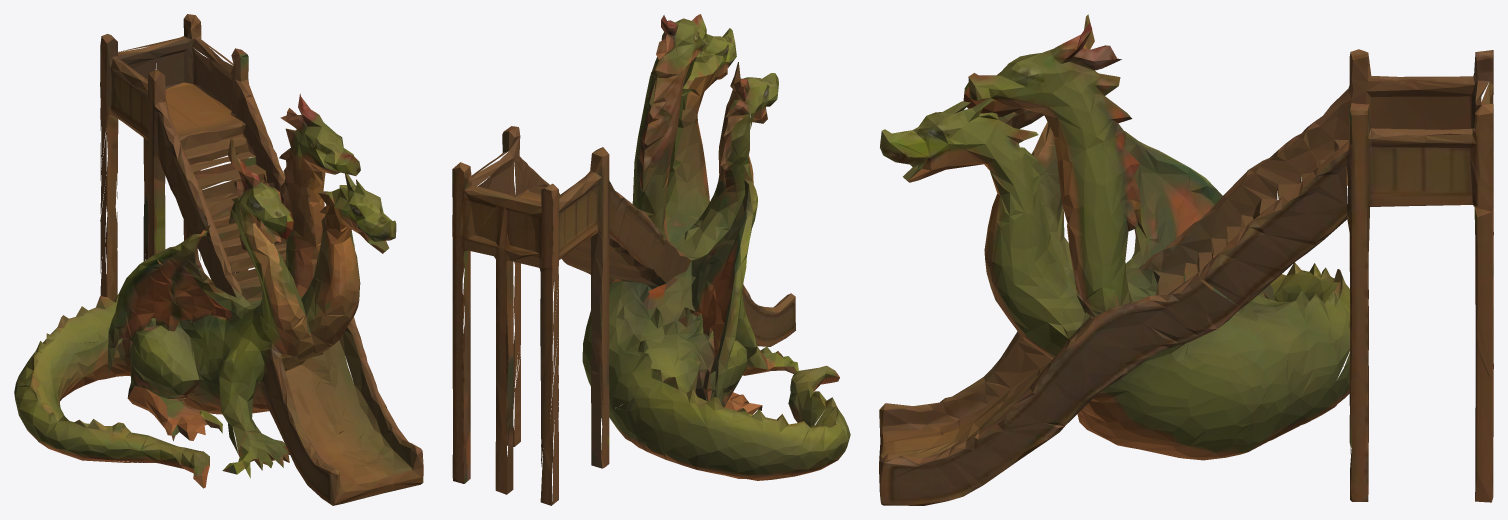
The model's file is slide.glb.
3 renders of one model, left to right at view 1: azimuth 30°, elevation 25°; view 2: azimuth 150°, elevation 25°; view 3: azimuth 270°, elevation 25°, orthographic. The views are drawn at different scales.
Visible parts, largest first — view 1: geometry_0; view 2: geometry_0; view 3: geometry_0.
Part boxes in pixels (left/top/right/bottom): geometry_0: left=14, top=14, right=423, bottom=505; geometry_0: left=452, top=14, right=850, bottom=505; geometry_0: left=879, top=14, right=1493, bottom=505.
Bounding box in the file's own units: 1.58 × 1.97 × 2.4.
1 material, 1 textured.
